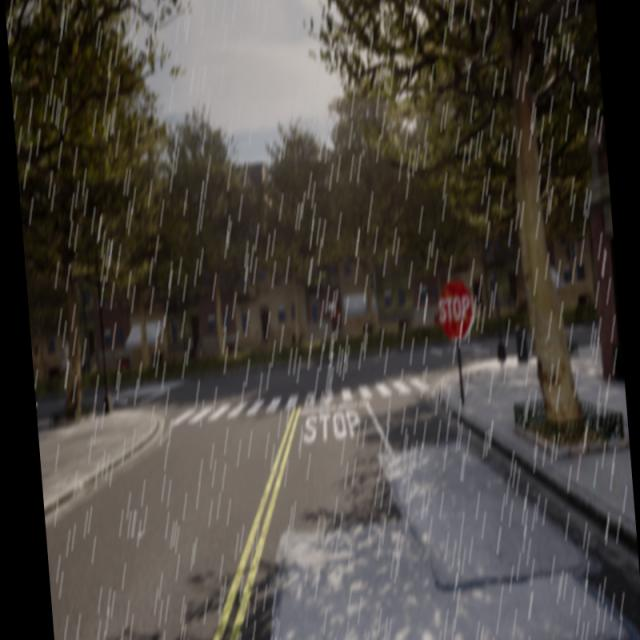stop sign: (435, 276, 477, 342)
